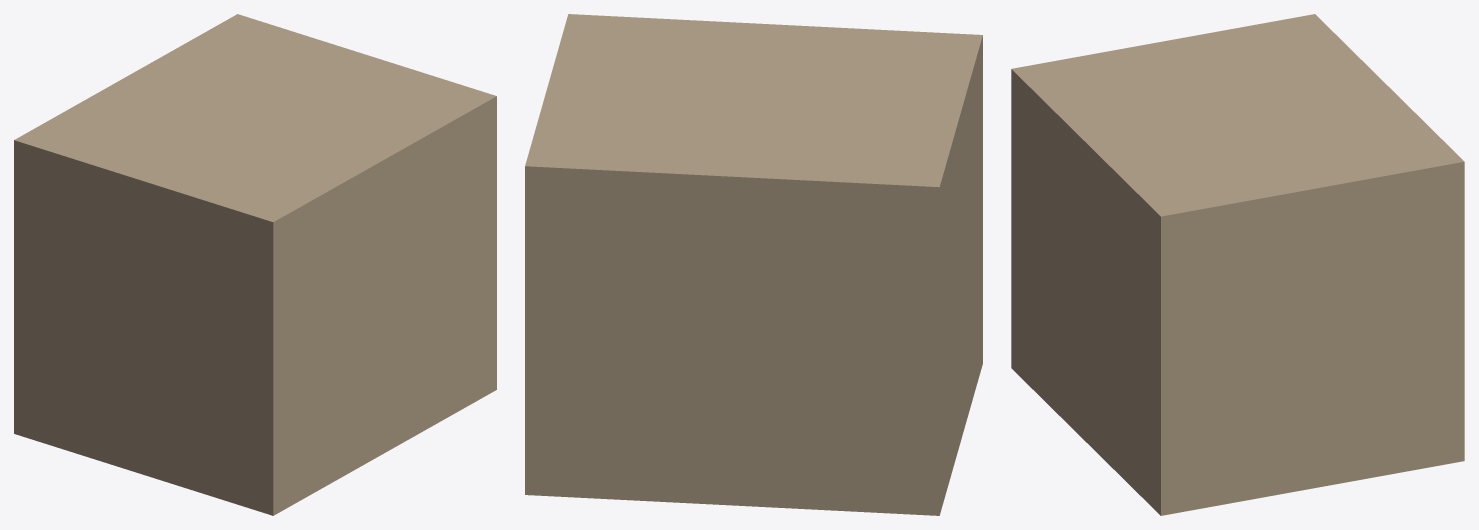
The model's file is bld_163484350.dae.
3 views of the same model, side by side, from view 1: azimuth 30°, elevation 25°; view 2: azimuth 150°, elevation 25°; view 3: azimuth 270°, elevation 25° (orthographic). The views are drawn at different scales.
Visible parts, largest first — view 1: bld_163484350; view 2: bld_163484350; view 3: bld_163484350.
Part boxes in pixels (left/top/right/bottom): bld_163484350: left=14, top=14, right=496, bottom=515; bld_163484350: left=525, top=14, right=982, bottom=515; bld_163484350: left=1011, top=14, right=1464, bottom=515.
Size of the model in its own units: 11.61 by 10.98 by 8.
